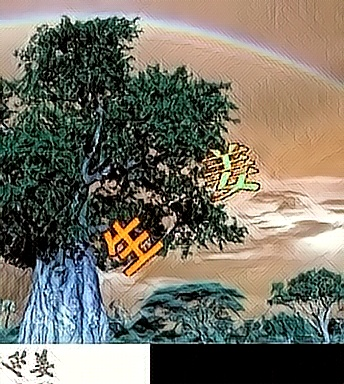BDAA: (198, 138, 261, 204)
C9FA: (103, 209, 166, 275)
